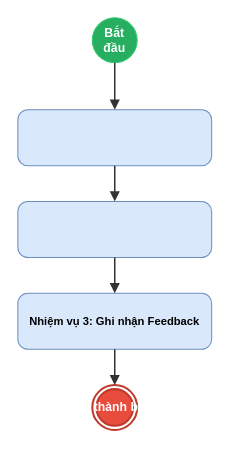
This 230x449 diagram has some shape labels left out. Each missing label, with the centre of its shape:
Nhiệm vụ 1: Hoàn thành phiếu: (114,137)
Nhiệm vụ 2: Sửa lịch trình: (114,229)
